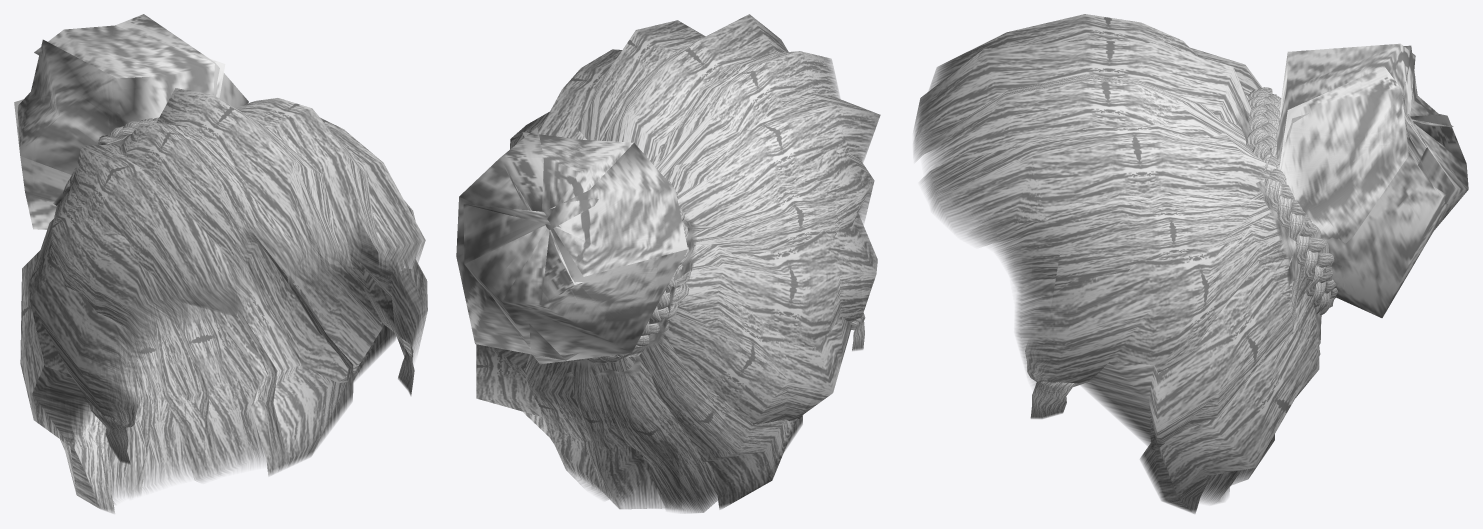
File: daz_hair_bow_bun_braids.glb
The picture shows the model from 3 angles, left to right: view 1: azimuth 30°, elevation 25°; view 2: azimuth 150°, elevation 25°; view 3: azimuth 270°, elevation 25°; orthographic projection. The views are drawn at different scales.
Visible parts, largest first — view 1: daz_hair_bow_bun_braids; view 2: daz_hair_bow_bun_braids; view 3: daz_hair_bow_bun_braids.
Boxes of the visible parts, box(x1,y1,x2,y2) form: daz_hair_bow_bun_braids: box(14, 14, 427, 513); daz_hair_bow_bun_braids: box(456, 14, 880, 513); daz_hair_bow_bun_braids: box(913, 14, 1468, 513).
Bounding box in the file's own units: 0.1696 × 0.1935 × 0.2198.
Materials: 1 (1 with a texture image).
